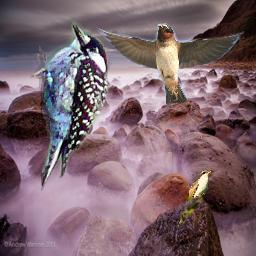Cuckoo: (176, 169, 214, 228)
Swallow: (95, 23, 244, 106)
Woodpecker: (15, 16, 120, 198)
